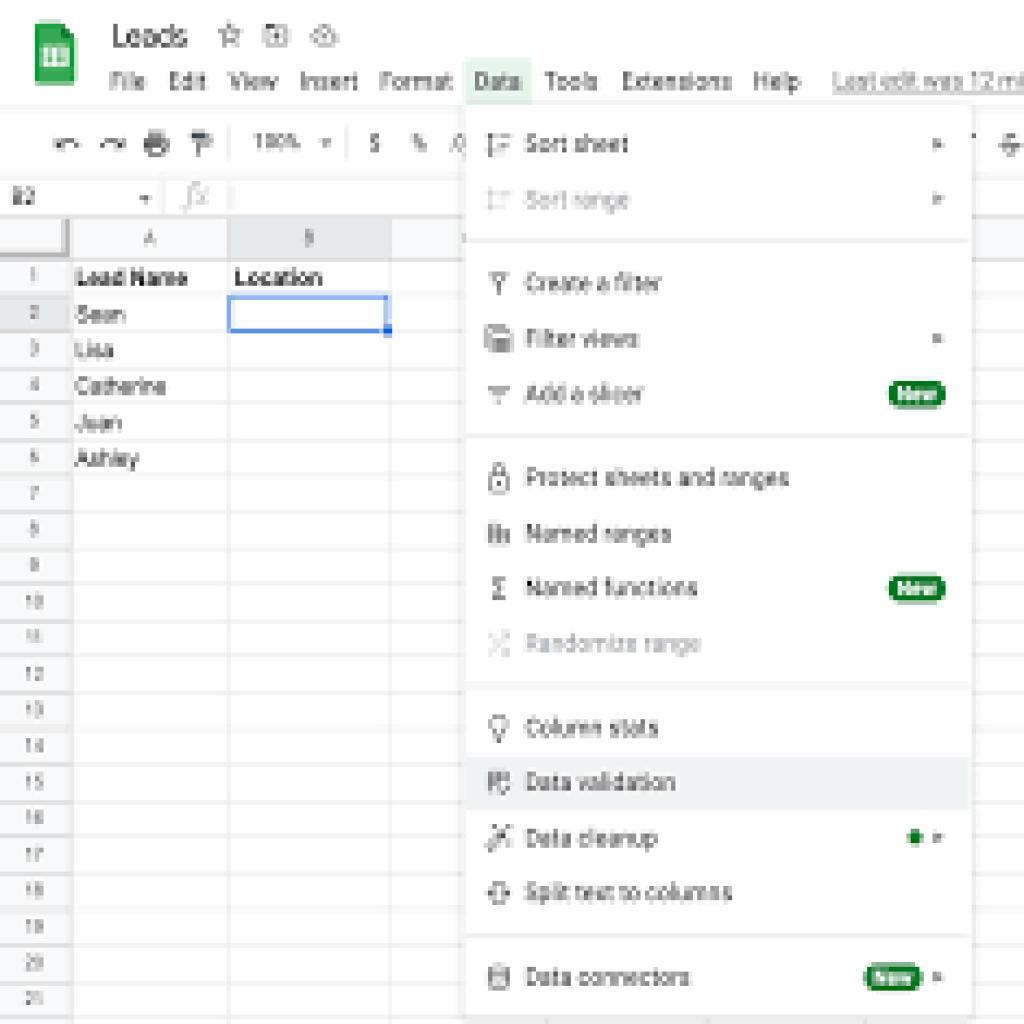icon: (31, 17, 85, 93), (482, 457, 522, 503), (476, 517, 522, 556), (478, 564, 511, 615), (482, 815, 519, 859), (480, 125, 520, 165), (481, 184, 520, 225), (480, 954, 514, 999), (142, 125, 177, 165), (482, 378, 519, 415), (481, 265, 517, 303), (481, 325, 519, 359), (487, 764, 516, 805), (262, 20, 294, 56), (217, 20, 248, 57), (484, 711, 514, 749), (308, 22, 343, 54), (487, 627, 517, 664), (485, 878, 517, 911), (188, 127, 217, 162), (51, 134, 88, 161), (100, 131, 129, 162)
table: (1, 217, 399, 1018)
